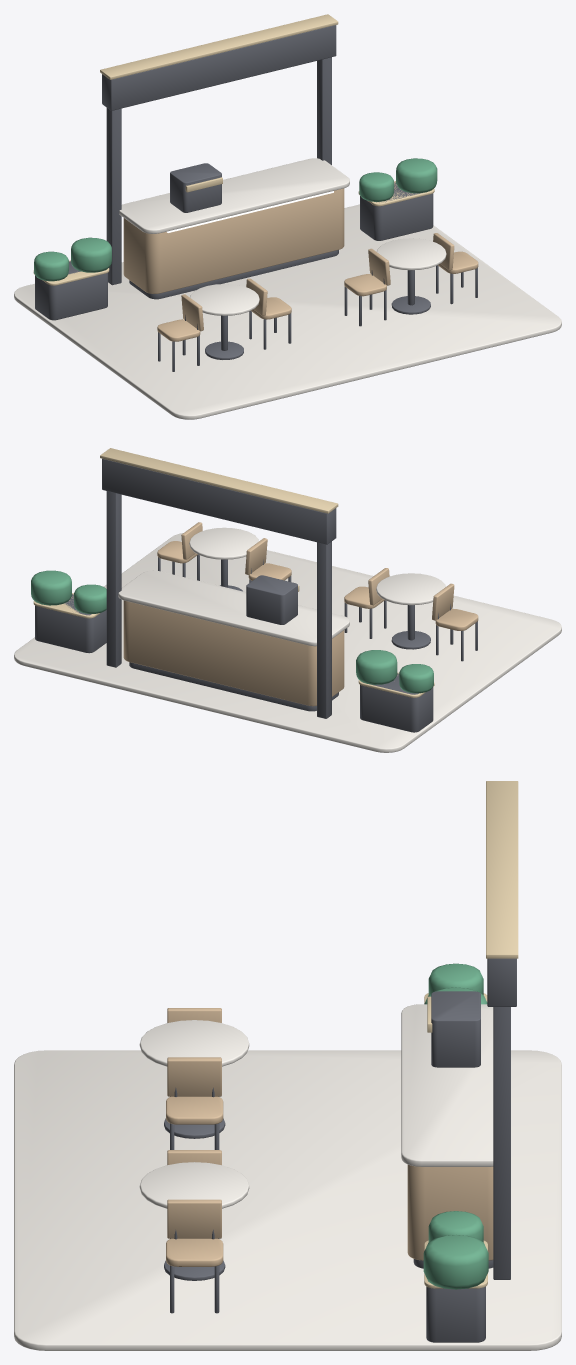
File: mini_cafe_corner_v27_3.glb
The picture shows the model from 3 angles, top to bottom: view 1: azimuth 30°, elevation 25°; view 2: azimuth 150°, elevation 25°; view 3: azimuth 270°, elevation 25°; orthographic projection. The views are drawn at different scales.
Parts seen in each view (by area): view 1: V273_MiniCafeCorner_Cafe_Cream_Stone, V273_MiniCafeCorner_Cafe_Graphite, V273_MiniCafeCorner_Cafe_Warm_Oak, V273_MiniCafeCorner_Cafe_Foliage, V273_MiniCafeCorner_Cafe_Brass; view 2: V273_MiniCafeCorner_Cafe_Cream_Stone, V273_MiniCafeCorner_Cafe_Graphite, V273_MiniCafeCorner_Cafe_Warm_Oak, V273_MiniCafeCorner_Cafe_Foliage, V273_MiniCafeCorner_Cafe_Brass; view 3: V273_MiniCafeCorner_Cafe_Cream_Stone, V273_MiniCafeCorner_Cafe_Graphite, V273_MiniCafeCorner_Cafe_Warm_Oak, V273_MiniCafeCorner_Cafe_Brass, V273_MiniCafeCorner_Cafe_Foliage.
Boxes of the visible parts, x1,y1,x2,y2 form: V273_MiniCafeCorner_Cafe_Cream_Stone: (14,158,561,419); V273_MiniCafeCorner_Cafe_Graphite: (35,25,477,371); V273_MiniCafeCorner_Cafe_Warm_Oak: (123,188,478,341); V273_MiniCafeCorner_Cafe_Foliage: (34,158,437,281); V273_MiniCafeCorner_Cafe_Brass: (33,14,434,285); V273_MiniCafeCorner_Cafe_Cream_Stone: (14,527,561,752); V273_MiniCafeCorner_Cafe_Graphite: (35,458,477,732); V273_MiniCafeCorner_Cafe_Warm_Oak: (123,522,478,706); V273_MiniCafeCorner_Cafe_Foliage: (31,570,433,693); V273_MiniCafeCorner_Cafe_Brass: (33,448,434,697); V273_MiniCafeCorner_Cafe_Cream_Stone: (14,1004,561,1350); V273_MiniCafeCorner_Cafe_Graphite: (164,958,516,1342); V273_MiniCafeCorner_Cafe_Warm_Oak: (166,1008,493,1266); V273_MiniCafeCorner_Cafe_Brass: (424,781,518,1288); V273_MiniCafeCorner_Cafe_Foliage: (423,963,488,1289).
Bounding box in the file's own units: 5.76 × 2.98 × 4.4.
